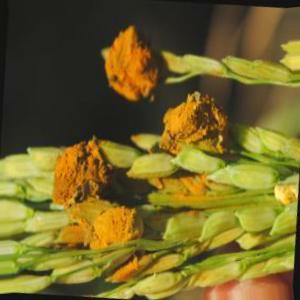Leaf_Scald: (60, 202, 138, 262), (108, 25, 154, 110), (161, 96, 224, 154), (57, 144, 103, 210)
